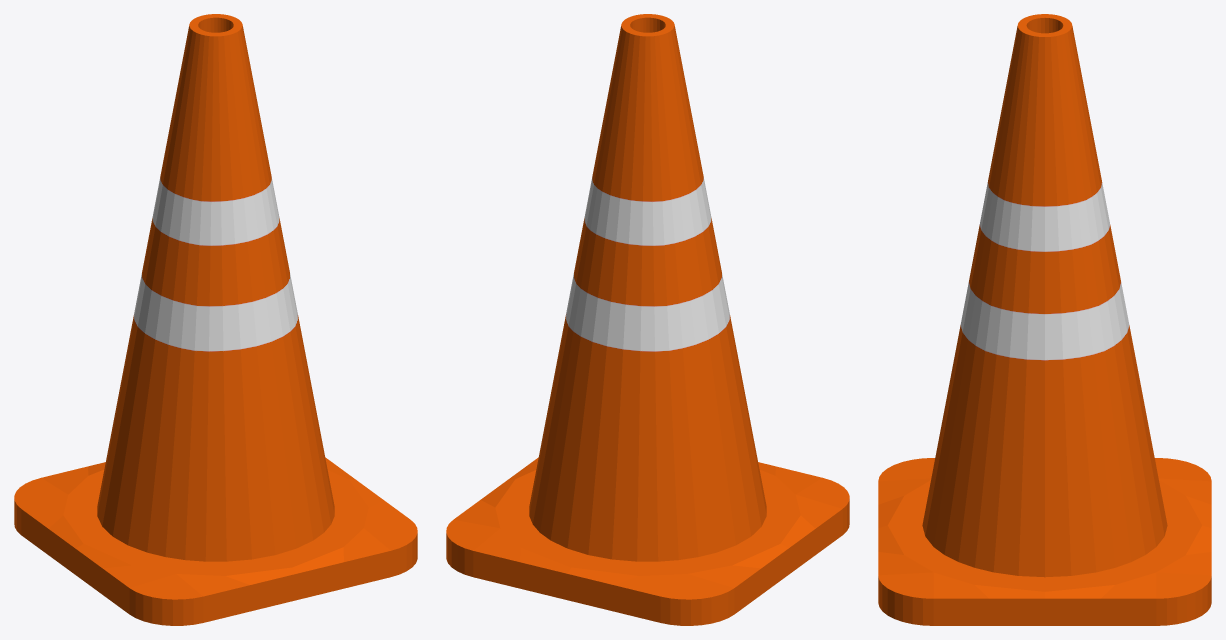
Rendered from Trafic Con.fbx.
3 views of the same model, side by side, from view 1: azimuth 30°, elevation 25°; view 2: azimuth 150°, elevation 25°; view 3: azimuth 270°, elevation 25° (orthographic). The views are drawn at different scales.
Visible parts, largest first — view 1: Plane; view 2: Plane; view 3: Plane.
Part boxes in pixels (<box>): Plane: <box>14,14,417,625</box>; Plane: <box>446,14,849,625</box>; Plane: <box>878,14,1211,625</box>.
Bounding box in the file's own units: 164 × 288 × 164.
Materials: 1 (1 with a texture image).
